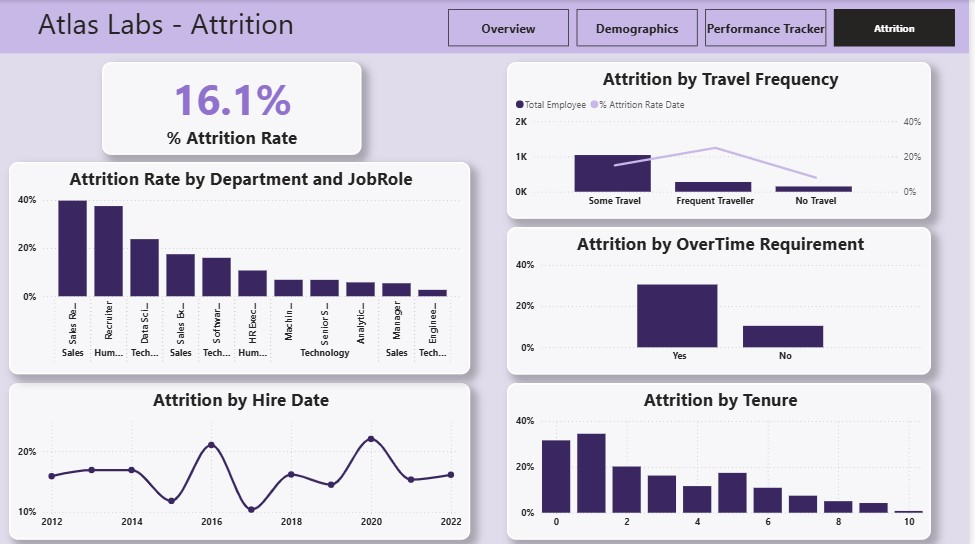

The dashboard page shown, as its layout file describes it:
{"tool":"powerbi","page":{"name":"Attrition","canvas":[1280,720],"ordinal":3},"visuals":[{"type":"card","fields":{"Values":["_Measure.% Attrition Rate"]},"box":[140.4,81.2,341.3,122.5],"z":0},{"type":"lineChart","title":" Attrition by Hire Date ","fields":{"Category":["DimDate.Date.Variation.Date Hierarchy.Year","DimDate.Date.Variation.Date Hierarchy.Quarter","DimDate.Date.Variation.Date Hierarchy.Month","DimDate.Date.Variation.Date Hierarchy.Day"],"Y":["_Measure.% Attrition Rate Date"]},"box":[17.9,503.7,605.6,206.5],"z":1000},{"type":"clusteredColumnChart","title":" Attrition Rate by Department and JobRole","fields":{"Category":["DimEmployee.Department","DimEmployee.JobRole"],"Y":["_Measure.% Attrition Rate Date"]},"box":[17.9,213.3,605.6,279.4],"z":2000},{"type":"lineClusteredColumnComboChart","title":" Attrition by Travel Frequency","fields":{"Category":["DimEmployee.BusinessTravel"],"Y":["_Measure.Total Employee"],"Y2":["_Measure.% Attrition Rate Date"]},"box":[673,81.2,557.4,206.5],"z":3000},{"type":"clusteredColumnChart","title":" Attrition by OverTime Requirement","fields":{"Category":["DimEmployee.OverTime"],"Y":["_Measure.% Attrition Rate Date"]},"box":[673,298.7,557.4,194.1],"z":4000},{"type":"clusteredColumnChart","title":" Attrition by Tenure","fields":{"Y":["_Measure.% Attrition Rate"],"Category":["DimEmployee.YearsAtCompany"]},"box":[673,503.7,557.4,206.5],"z":5000},{"type":"shape","box":[0,0,1280,70.2],"z":6000},{"type":"pageNavigator","box":[594.6,12.4,668.9,49.5],"z":7000},{"type":"textbox","box":[24.8,0,399.1,63.3],"z":8000}]}

Visuals, with their boxes in screenshot pixels (x1, y1, x2, y2), scaled from the page's 1280x720 canvas onto the 975x544 screenshot:
card - _Measure.% Attrition Rate: BBox(107, 61, 367, 154)
" Attrition by Hire Date " lineChart: BBox(14, 381, 475, 537)
" Attrition Rate by Department and JobRole" clusteredColumnChart: BBox(14, 161, 475, 372)
" Attrition by Travel Frequency" lineClusteredColumnComboChart: BBox(513, 61, 937, 217)
" Attrition by OverTime Requirement" clusteredColumnChart: BBox(513, 226, 937, 372)
" Attrition by Tenure" clusteredColumnChart: BBox(513, 381, 937, 537)
shape: BBox(0, 0, 974, 53)
pageNavigator: BBox(453, 9, 962, 47)
textbox: BBox(19, 0, 323, 48)
